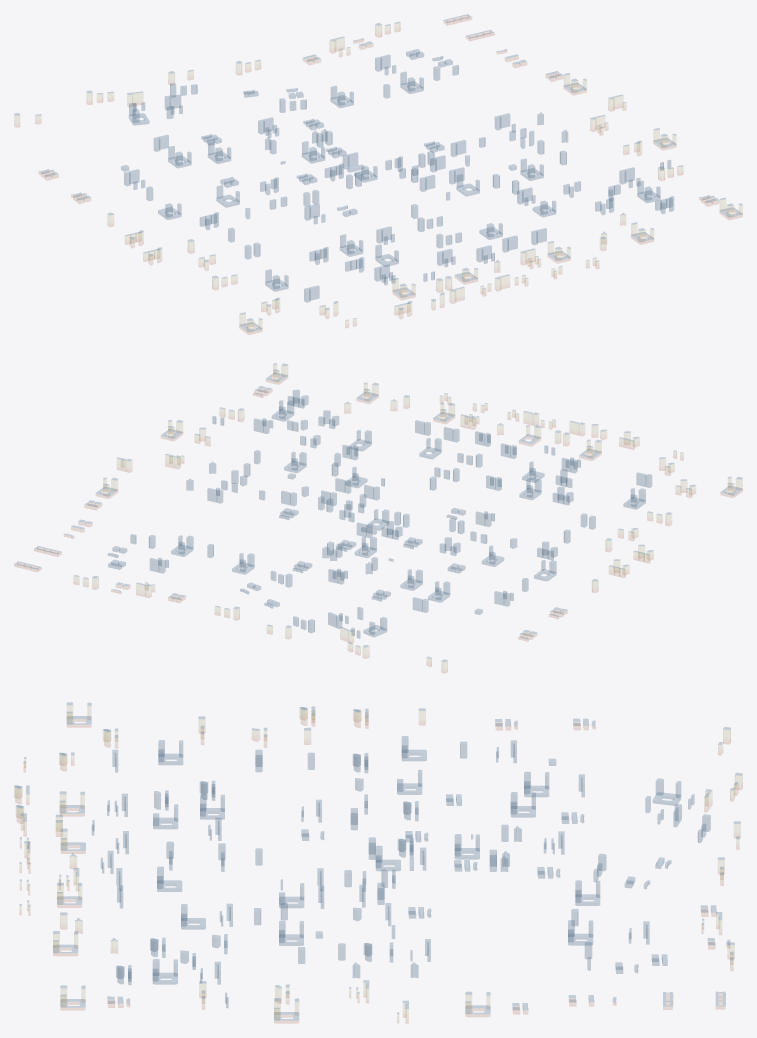
3 views of the same model, one above another, from view 1: azimuth 30°, elevation 25°; view 2: azimuth 150°, elevation 25°; view 3: azimuth 270°, elevation 25° (orthographic). The views are drawn at different scales.
Parts seen in each view (by area): view 1: 1006??; view 2: 1006??; view 3: 1006??.
Boxes of the visible parts, x1,y1,x2,y2 form: 1006??: [14, 14, 742, 334]; 1006??: [14, 363, 742, 672]; 1006??: [14, 702, 742, 1022].
Bounding box in the file's own units: 3400 × 86.88 × 3415.
Materials: 2 (2 with a texture image).
